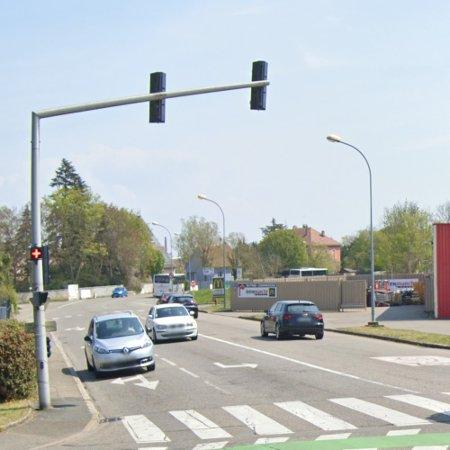crosswalks: (116, 390, 450, 445)
